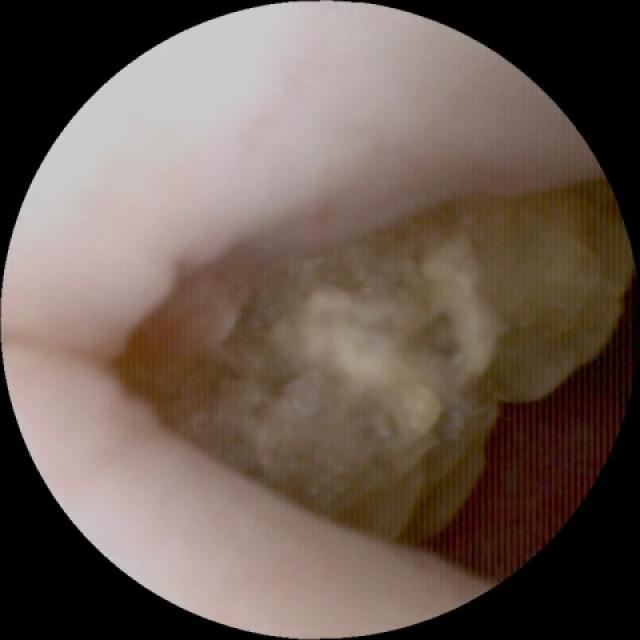stone: (152, 182, 630, 533)
tissue: (14, 5, 628, 605)
